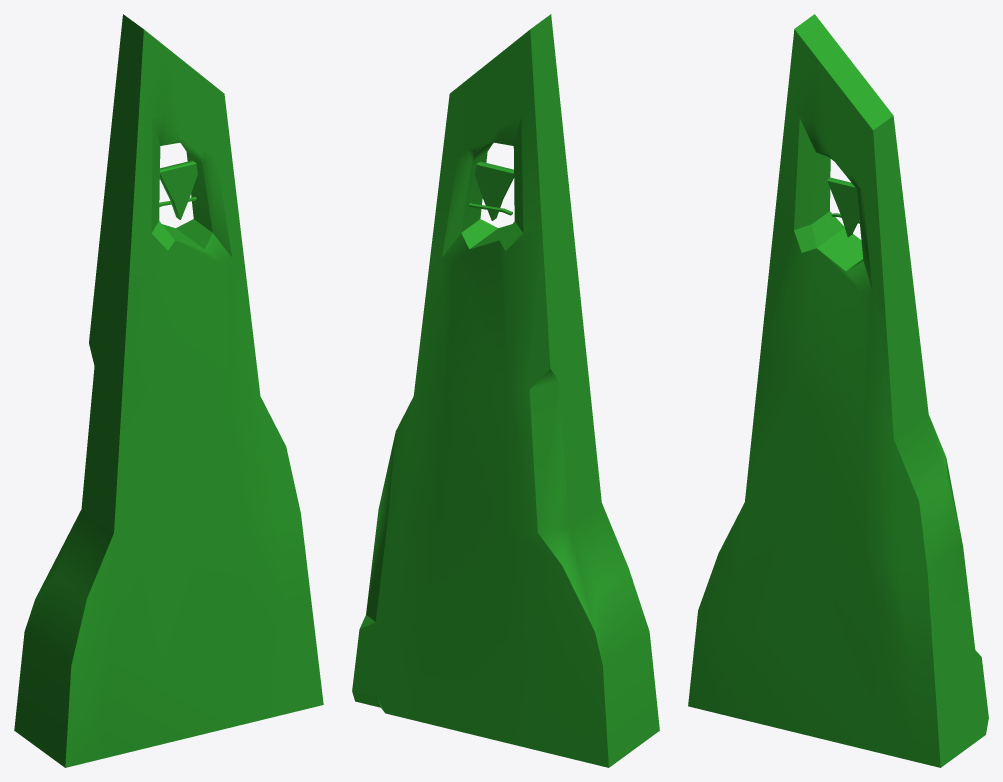
File: Obelisk_Earth.fbx
3 renders of one model, left to right at view 1: azimuth 30°, elevation 25°; view 2: azimuth 150°, elevation 25°; view 3: azimuth 330°, elevation 25°, orthographic. The views are drawn at different scales.
Parts seen in each view (by area): view 1: MESH_Obelisk_Earth; view 2: MESH_Obelisk_Earth; view 3: MESH_Obelisk_Earth.
Part boxes in pixels (x1,y1,x2,y2): MESH_Obelisk_Earth: (14, 14, 323, 767); MESH_Obelisk_Earth: (352, 14, 659, 767); MESH_Obelisk_Earth: (688, 14, 988, 767).
Size of the model in its own units: 10.53 by 27.45 by 3.71.
